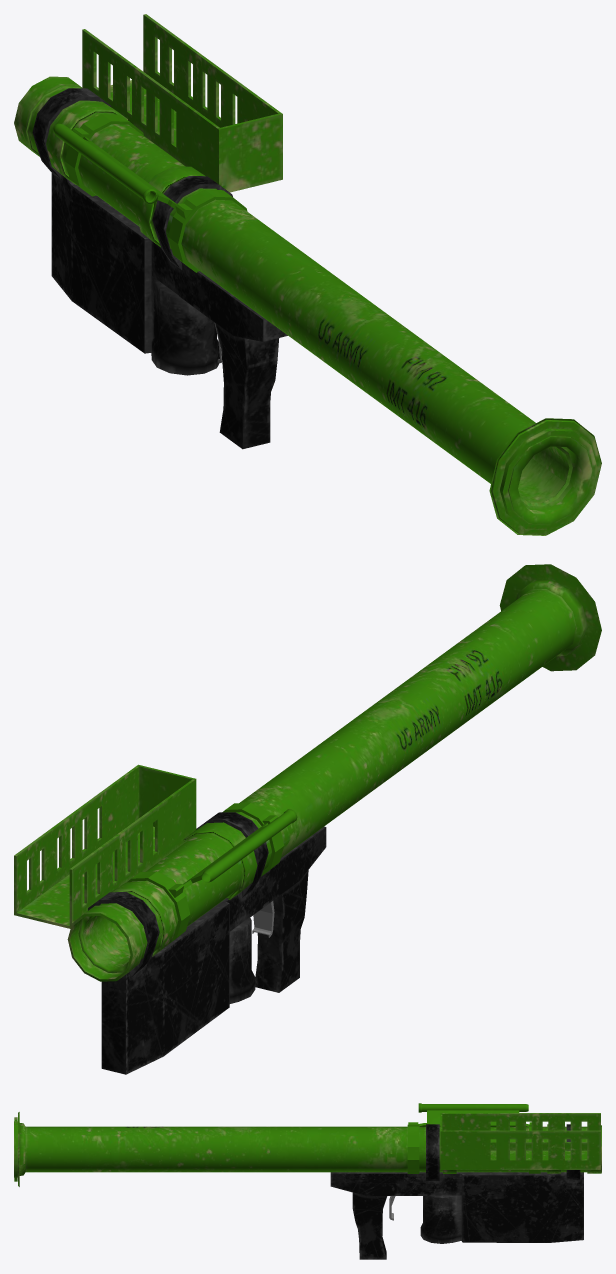
The model's file is stinger.glb.
3 renders of one model, top to bottom at view 1: azimuth 30°, elevation 25°; view 2: azimuth 150°, elevation 25°; view 3: azimuth 270°, elevation 25°, orthographic. The views are drawn at different scales.
Visible parts, largest first — view 1: stinger; view 2: stinger; view 3: stinger.
Part boxes in pixels (x1,y1,x2,y2): stinger: (14, 14, 601, 535); stinger: (14, 564, 601, 1074); stinger: (14, 1103, 601, 1259).
Bounding box in the file's own units: 0.2745 × 0.4322 × 1.52.
3 materials, 3 textured.
